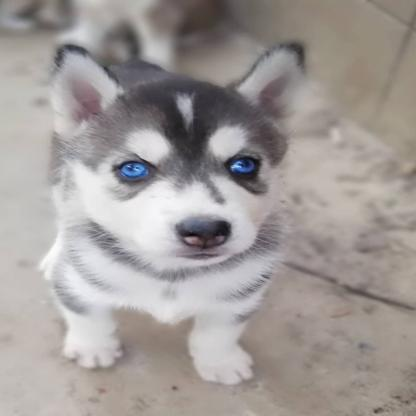dog: (40, 40, 317, 383)
